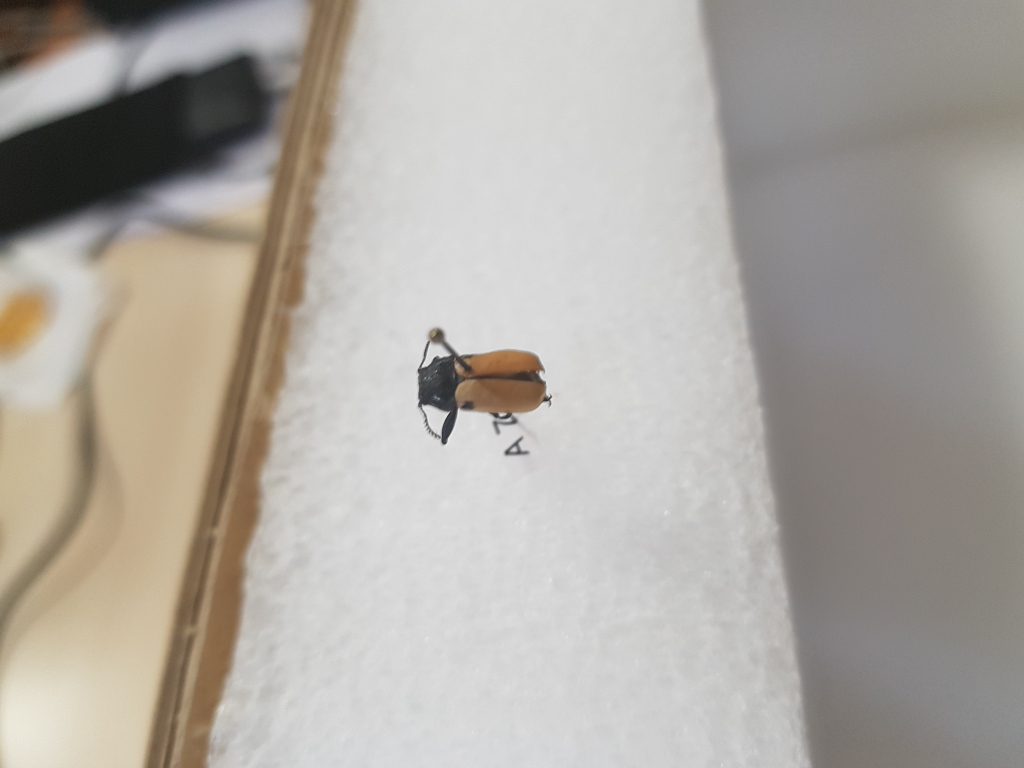Labidostomis_propinqua: (397, 327, 567, 448)
